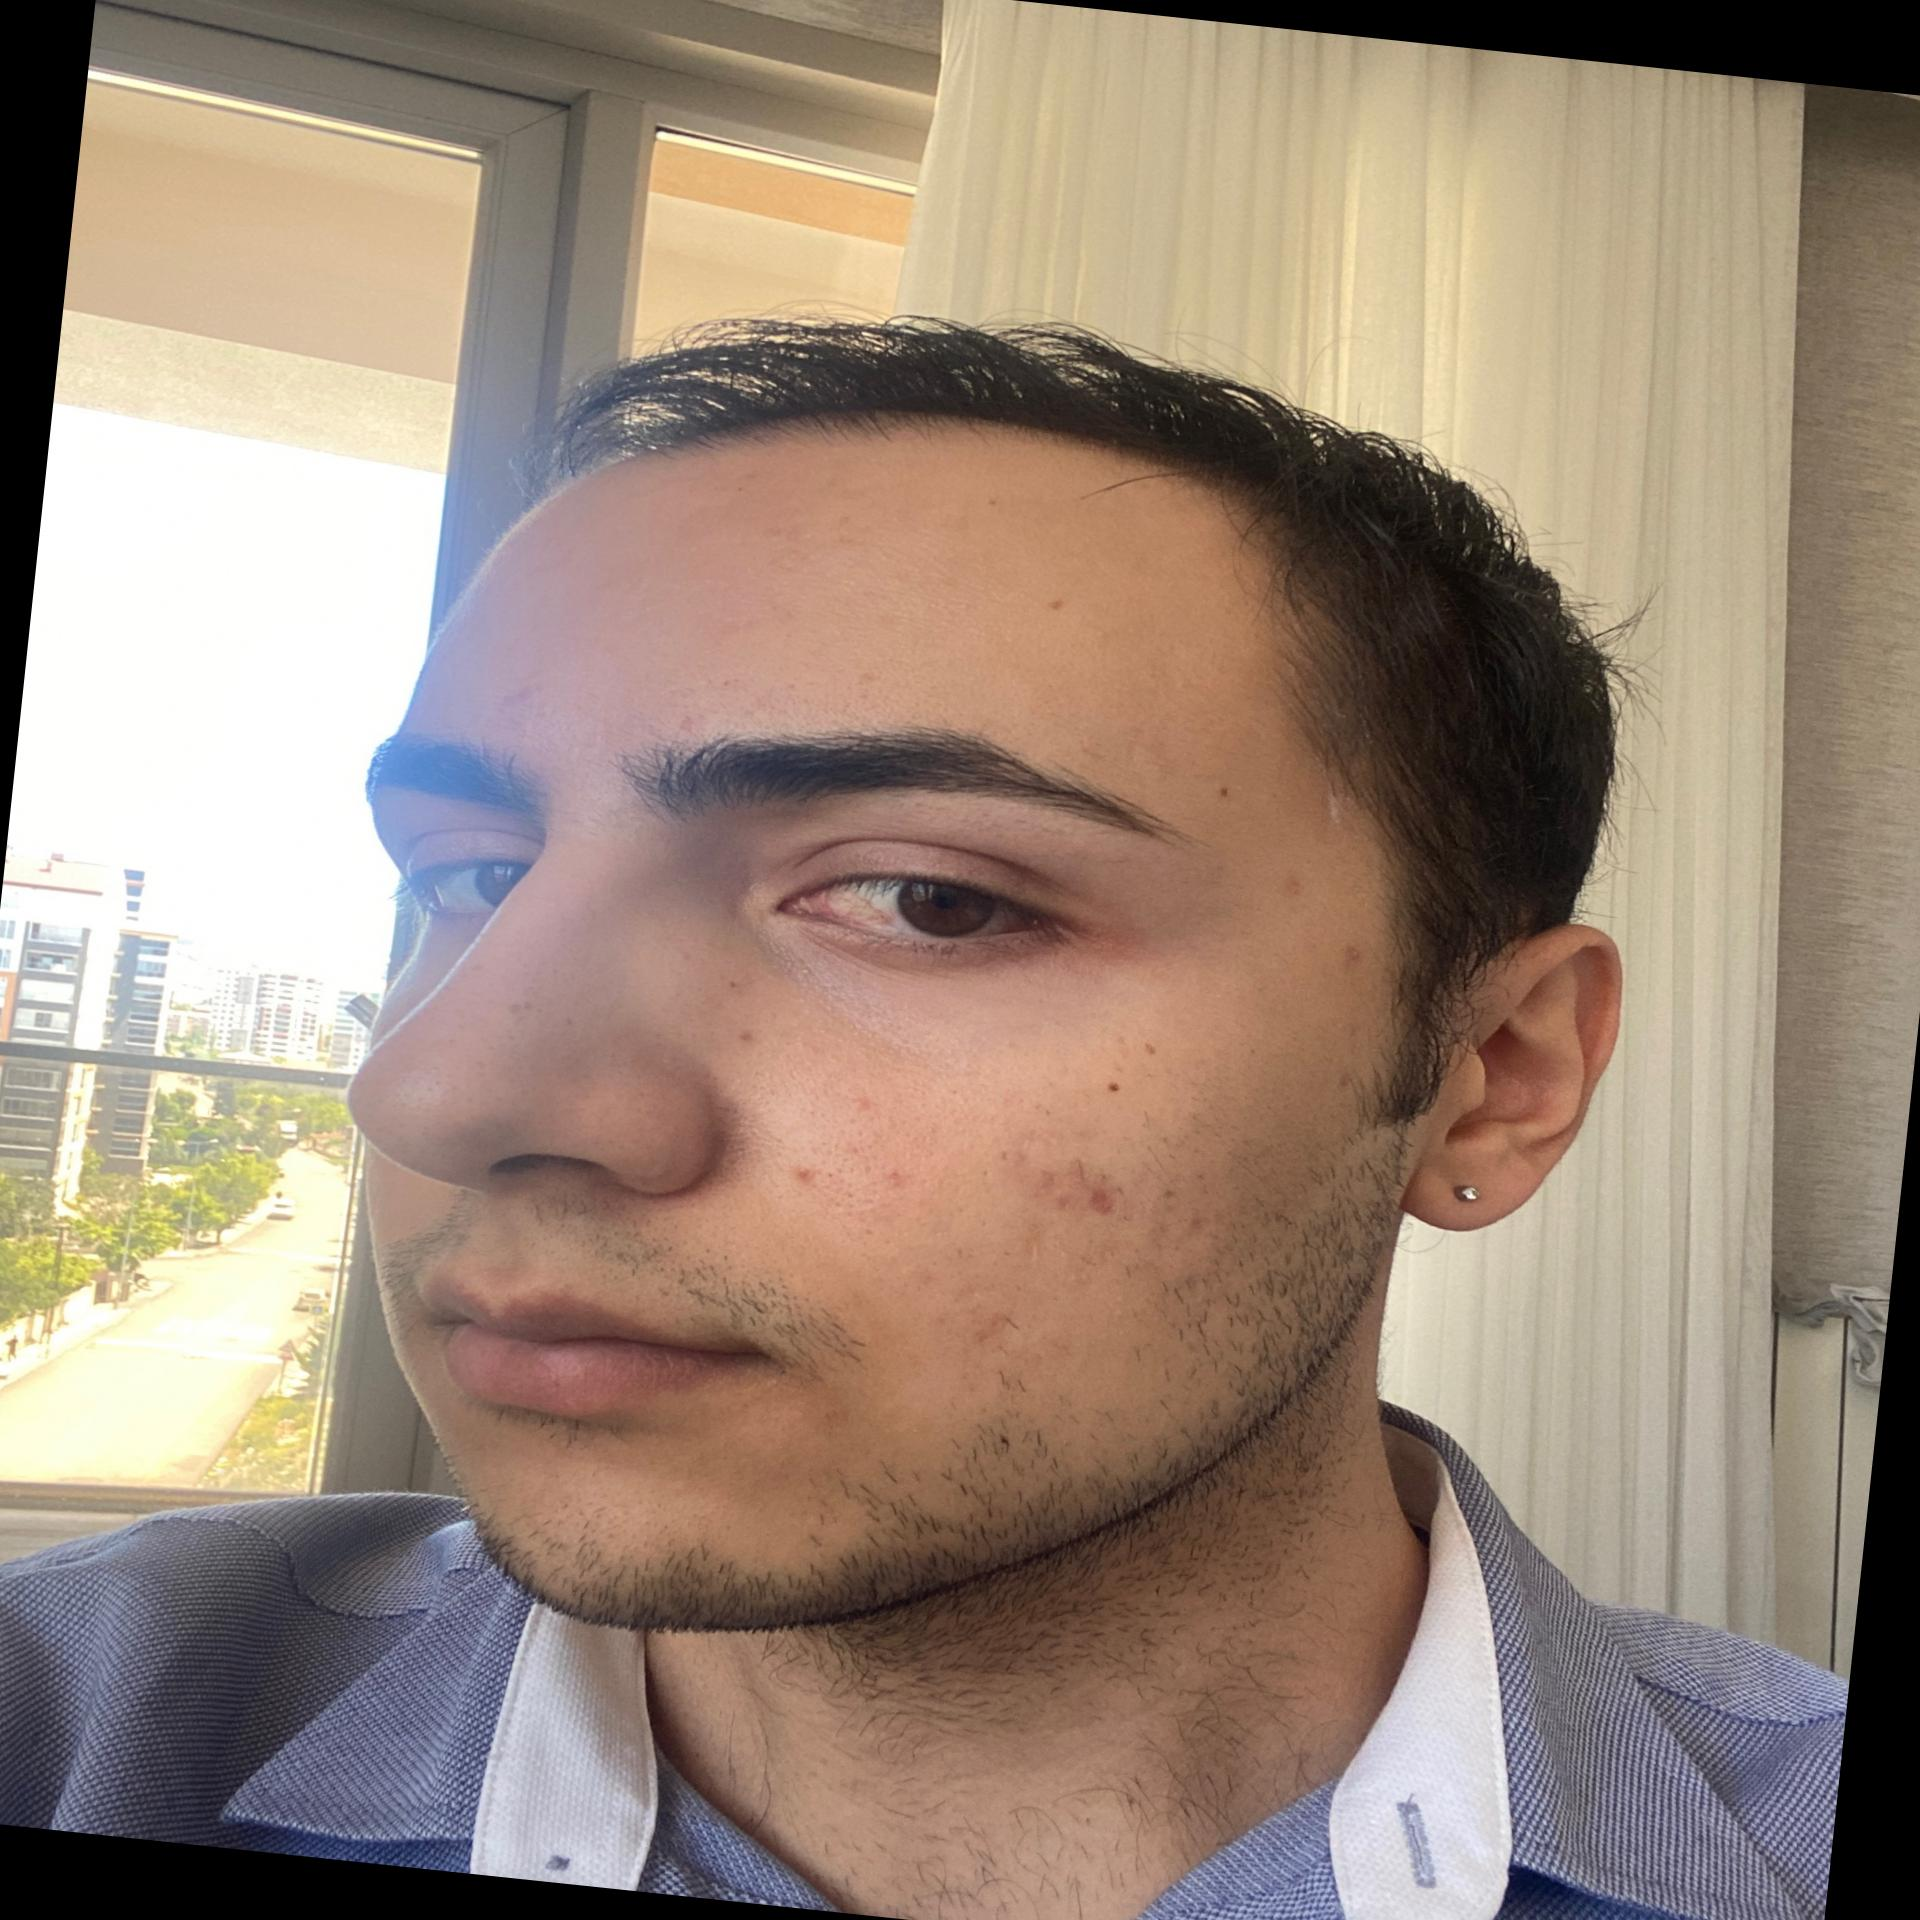Acne: (1020, 1155, 1134, 1227), (492, 666, 563, 719), (967, 1306, 1009, 1347), (1278, 870, 1315, 907), (877, 1162, 914, 1196), (1338, 937, 1366, 971), (670, 710, 705, 737), (788, 1159, 819, 1187), (730, 1023, 765, 1048), (855, 1092, 877, 1115)
